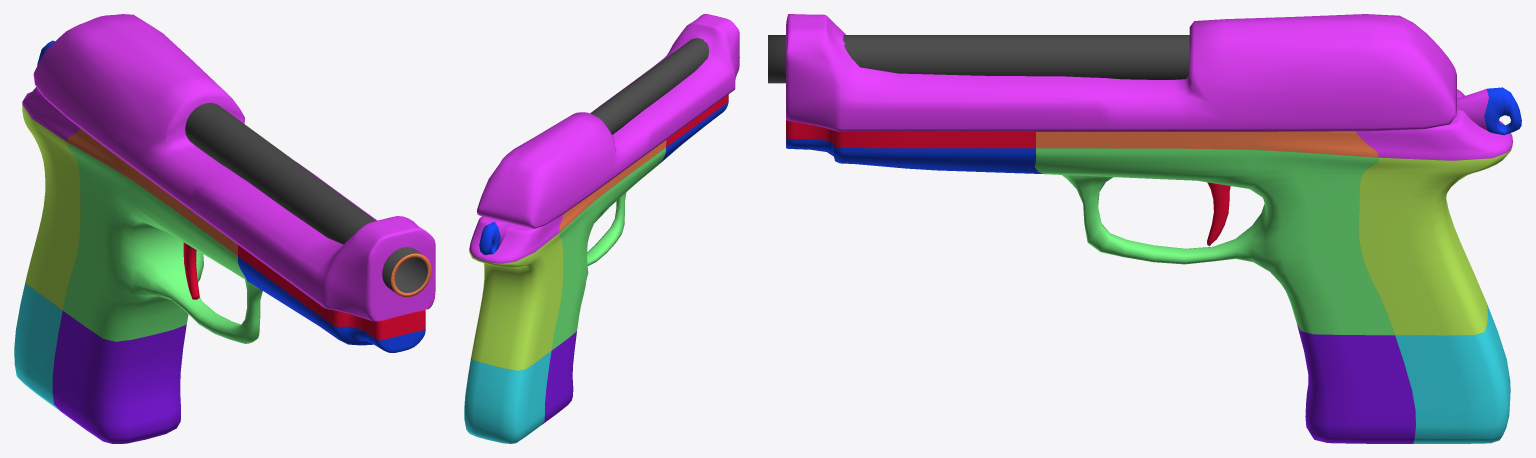
Rendered from minx-toy-pistol-low-poly.fbx.
The picture shows the model from 3 angles, left to right: view 1: azimuth 30°, elevation 25°; view 2: azimuth 150°, elevation 25°; view 3: azimuth 270°, elevation 25°; orthographic projection. The views are drawn at different scales.
Parts seen in each view (by area): view 1: body, slide, barrel, trigger; view 2: body, slide, barrel, hammer; view 3: body, slide, barrel, hammer, trigger.
Boxes of the visible parts, x1,y1,x2,y2 form: body: (14,87,425,443); slide: (33,14,435,321); barrel: (185,103,431,297); trigger: (183,242,199,299); body: (464,94,728,443); slide: (477,14,739,228); barrel: (590,38,708,134); hammer: (479,221,511,255); body: (786,89,1512,443); slide: (786,14,1456,131); barrel: (768,35,1189,83); hammer: (1457,87,1521,135); trigger: (1207,182,1230,246).
Size of the model in its own units: 3.86 by 14.14 by 23.62.
1 material, 1 textured.
